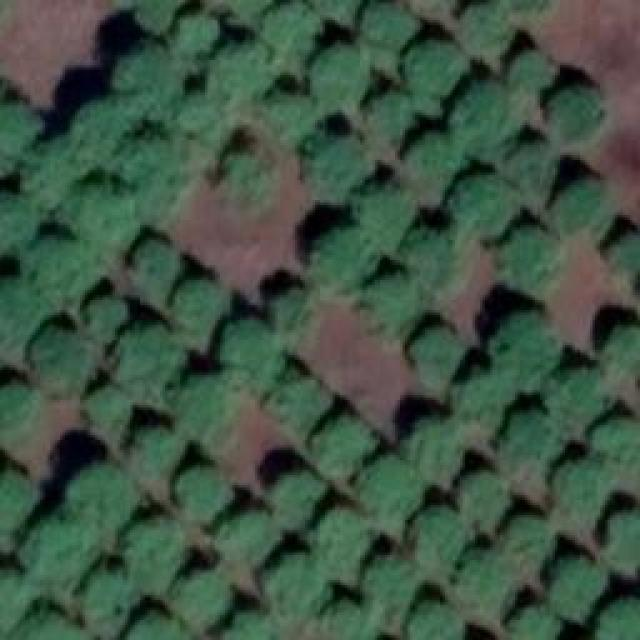Tree: (450, 80, 523, 153), (120, 515, 193, 585), (305, 130, 375, 203), (258, 370, 333, 435), (490, 313, 555, 388), (30, 327, 98, 395), (123, 325, 188, 395), (75, 183, 140, 253), (112, 40, 180, 105), (310, 230, 380, 293), (503, 230, 568, 295), (220, 320, 280, 390), (310, 418, 378, 478), (315, 510, 373, 580), (362, 280, 420, 348), (445, 180, 510, 240), (70, 468, 133, 528), (550, 368, 610, 431), (270, 560, 330, 623), (20, 520, 85, 578), (177, 378, 235, 443), (312, 40, 370, 105), (260, 2, 315, 70), (213, 152, 276, 210), (128, 423, 183, 488), (502, 145, 560, 205), (557, 178, 615, 238), (360, 550, 418, 610), (28, 230, 83, 293), (173, 465, 236, 520), (268, 470, 323, 533), (405, 133, 460, 196), (410, 423, 465, 486), (23, 140, 88, 193), (365, 463, 418, 528), (220, 515, 278, 573), (77, 95, 135, 153), (167, 102, 225, 160), (135, 155, 188, 218), (258, 90, 318, 145), (453, 548, 508, 608), (177, 278, 235, 333), (82, 568, 140, 623), (505, 413, 563, 468), (133, 240, 186, 300), (405, 505, 465, 558), (415, 328, 465, 391), (363, 87, 416, 145), (407, 40, 465, 93), (545, 555, 603, 608), (553, 85, 608, 140), (460, 0, 513, 55), (363, 180, 413, 238), (553, 457, 603, 515), (203, 55, 263, 103), (408, 233, 458, 288), (173, 3, 226, 53), (458, 378, 508, 431), (275, 288, 323, 341), (458, 472, 511, 520), (363, 0, 418, 45), (185, 578, 233, 628), (403, 600, 463, 640), (0, 102, 42, 159), (85, 382, 133, 430), (592, 417, 640, 465), (508, 48, 561, 91), (0, 282, 38, 340), (315, 602, 373, 640), (505, 515, 550, 563), (0, 193, 40, 246), (0, 475, 42, 525), (0, 385, 38, 438), (0, 568, 35, 623), (602, 330, 640, 380), (602, 510, 640, 560), (90, 298, 133, 341), (607, 230, 640, 280), (505, 607, 555, 640), (130, 615, 195, 640), (600, 600, 640, 640), (28, 610, 81, 640), (215, 615, 278, 640), (305, 0, 370, 20)
